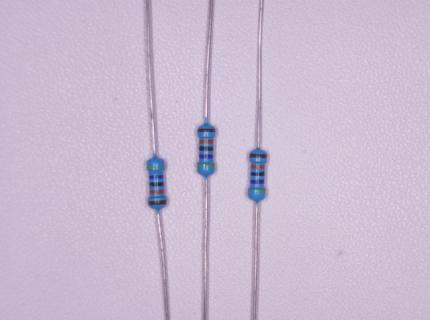Black band: (149, 182, 164, 187), (199, 146, 214, 151), (250, 172, 265, 176)
Brown band: (147, 200, 167, 206), (249, 153, 267, 158), (197, 128, 216, 132)
Orange band: (149, 189, 165, 194), (251, 164, 265, 169), (199, 139, 213, 144)
Violet band: (149, 175, 164, 180), (250, 179, 265, 184), (199, 154, 213, 159)
Yellow band: (247, 189, 266, 193), (197, 164, 215, 168), (147, 166, 165, 170)
